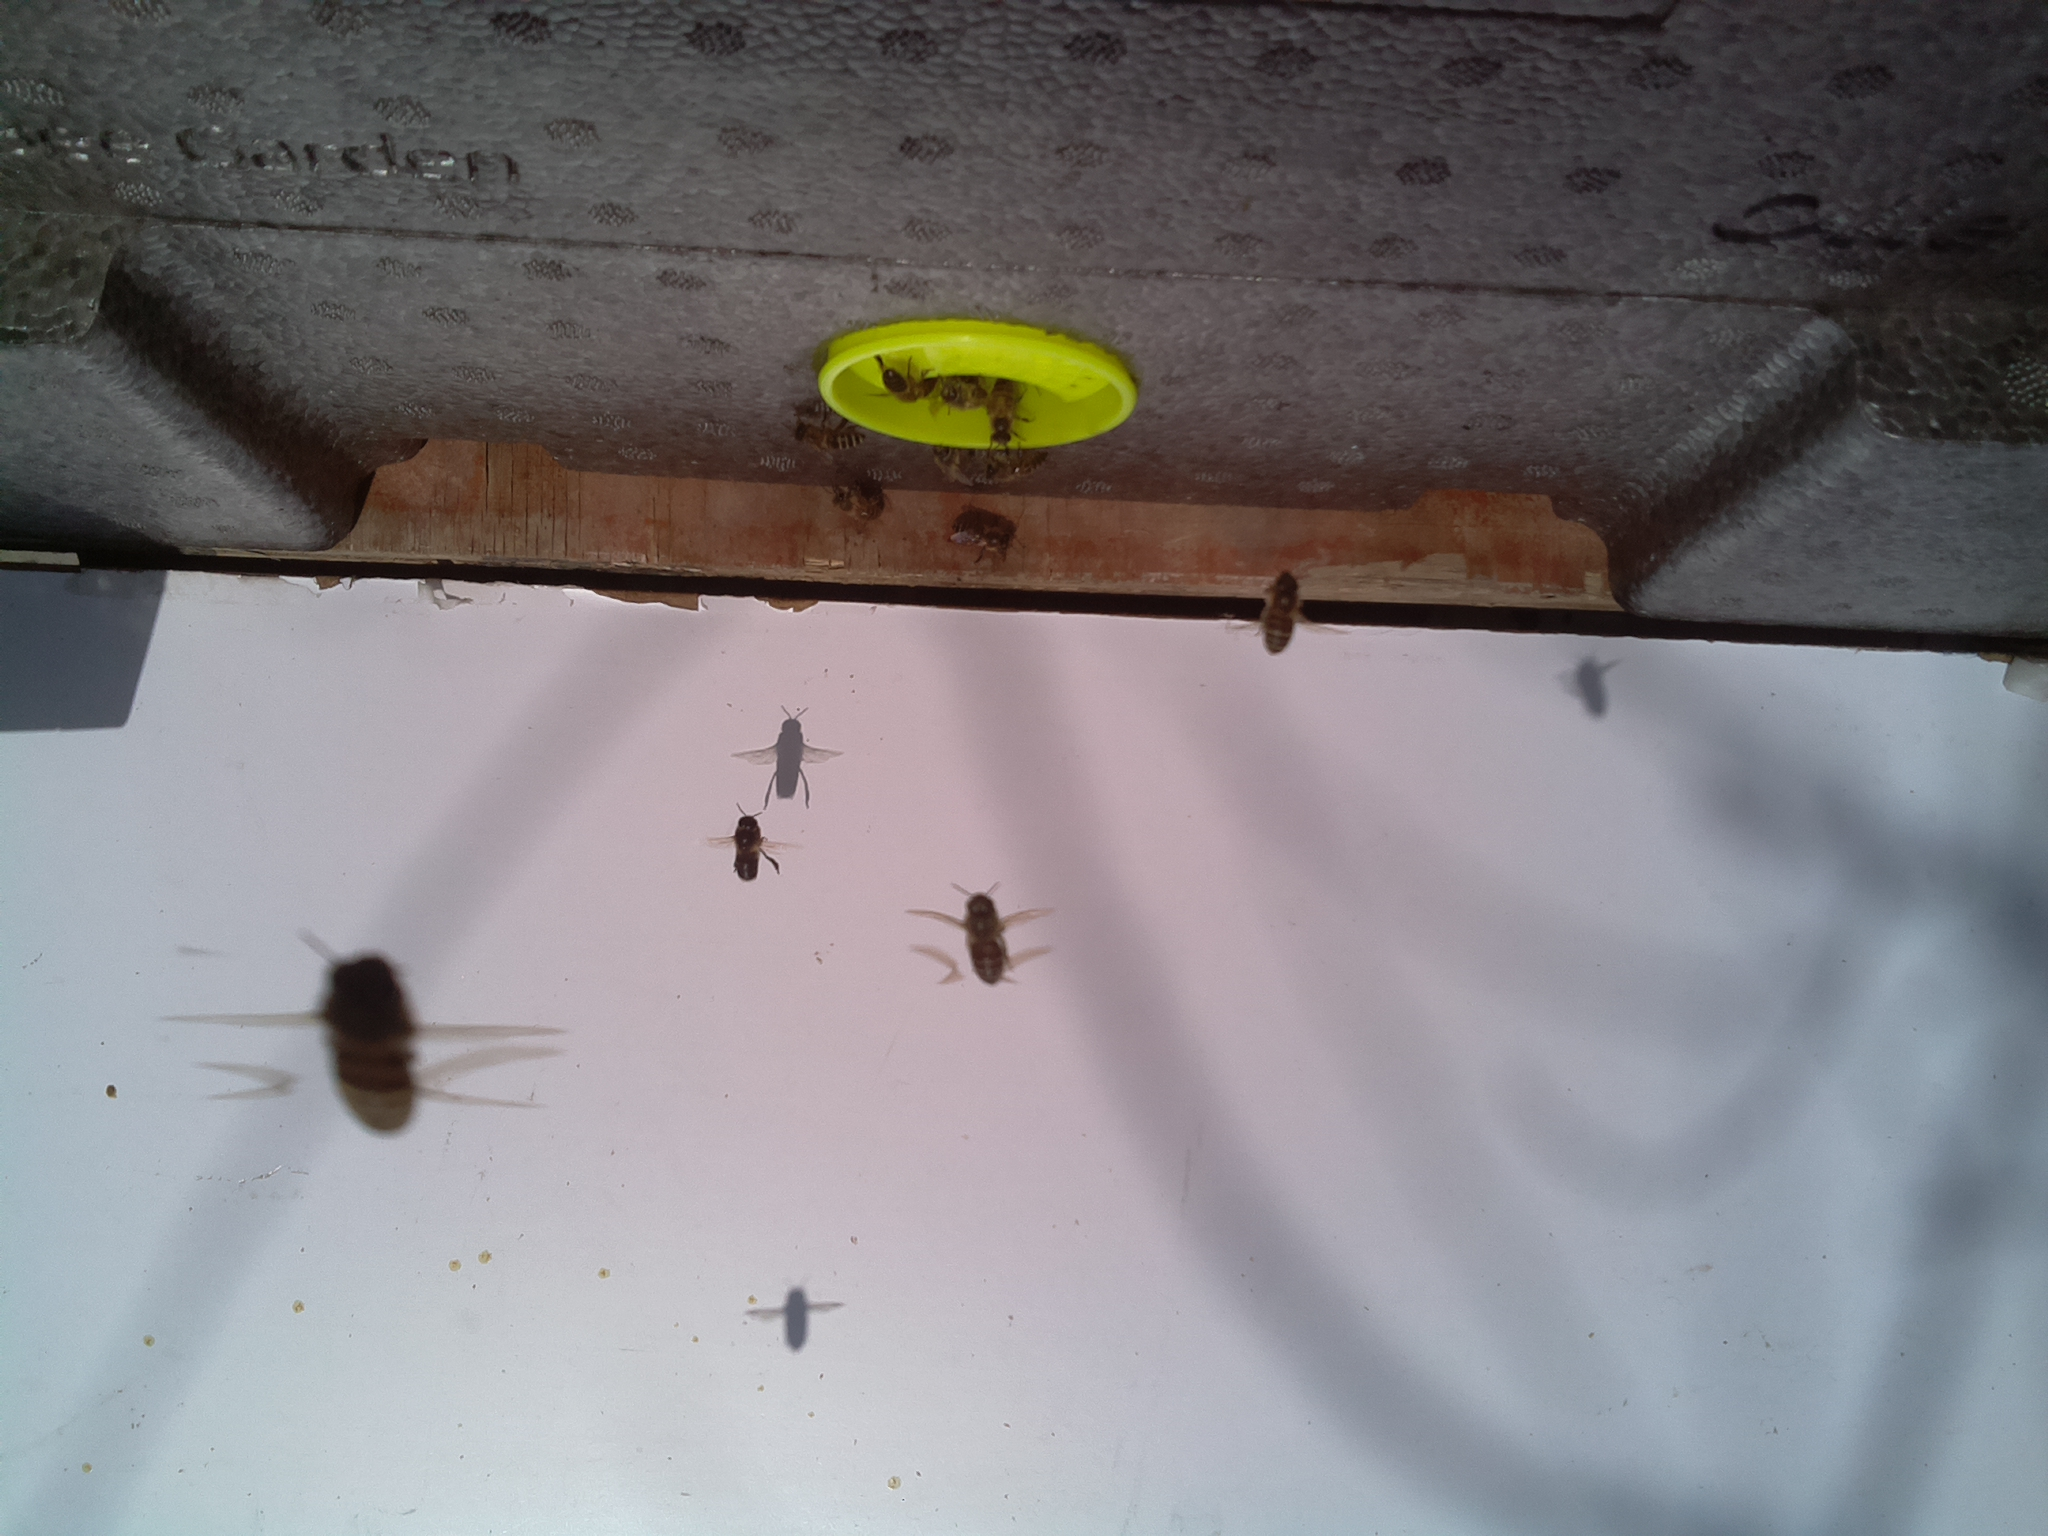bee: (308, 951, 424, 1141), (960, 891, 1010, 988), (1262, 570, 1301, 659), (732, 815, 765, 885)
